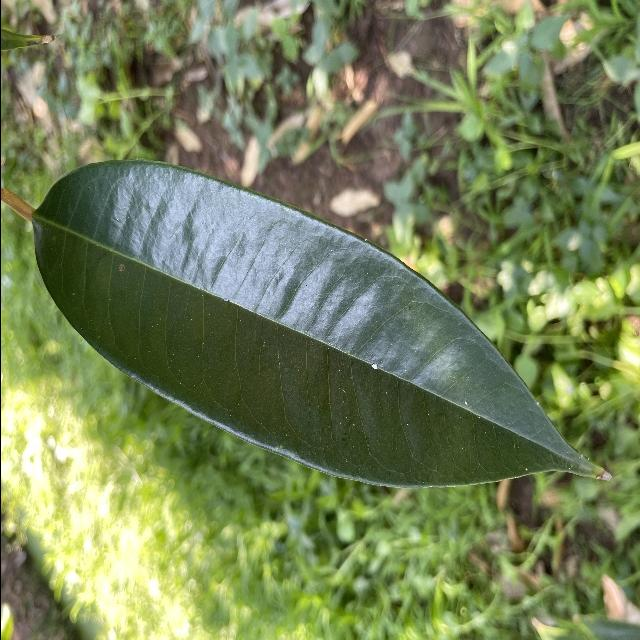No Disease: (19, 151, 616, 499)
